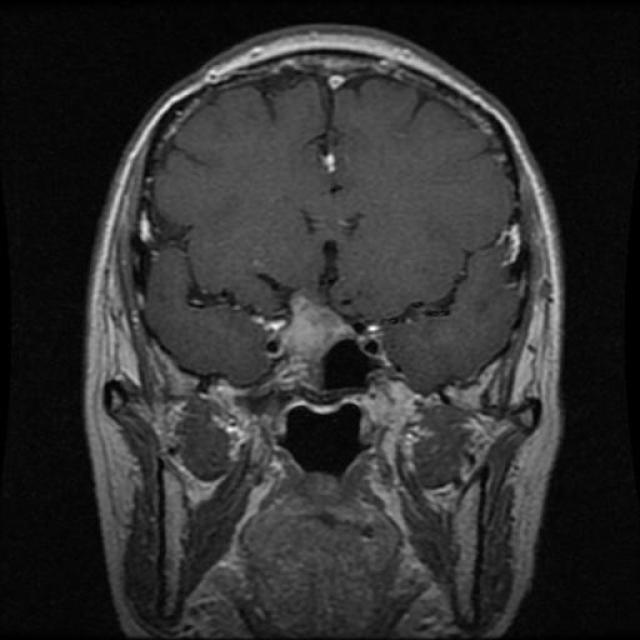pituitary: (249, 282, 397, 416)
